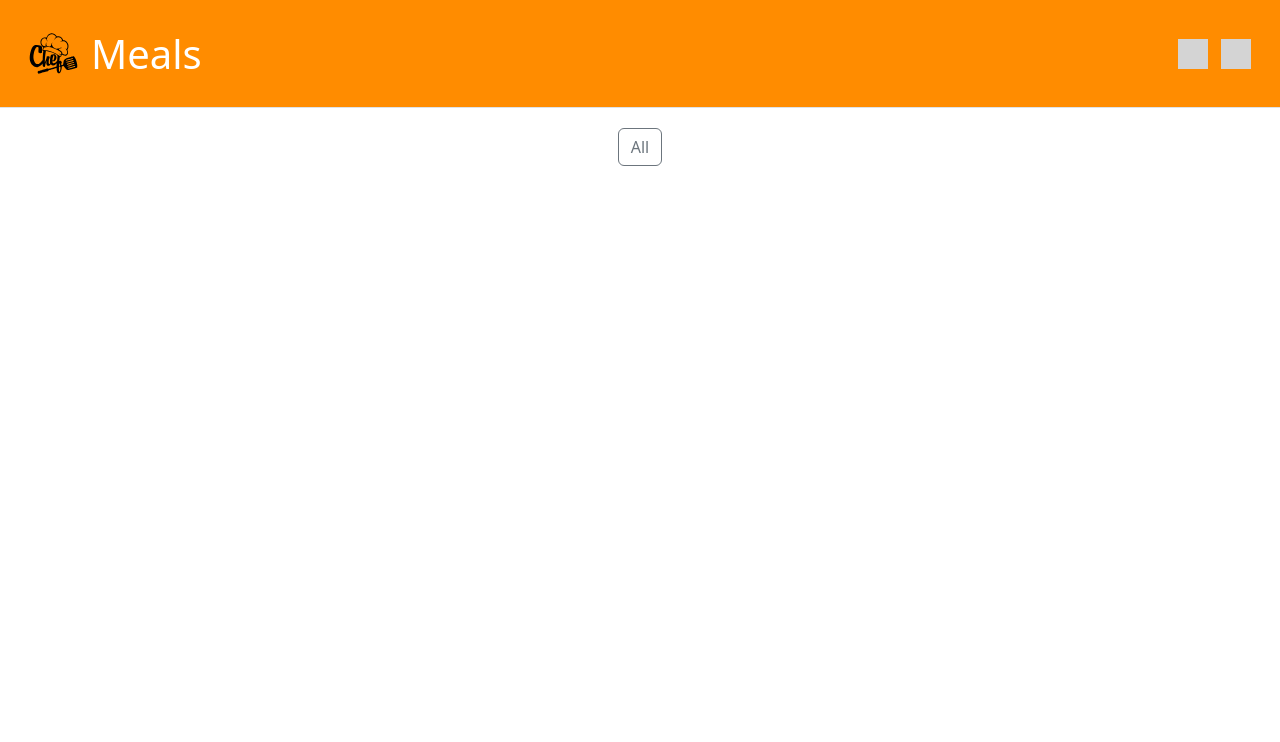
Test: Testa o componente SearchBar › Testa se tem o input, radio buttons e botão buscar
Click the button named "searchIcon".
click(1236, 54)  # box [1208,32,1264,76]
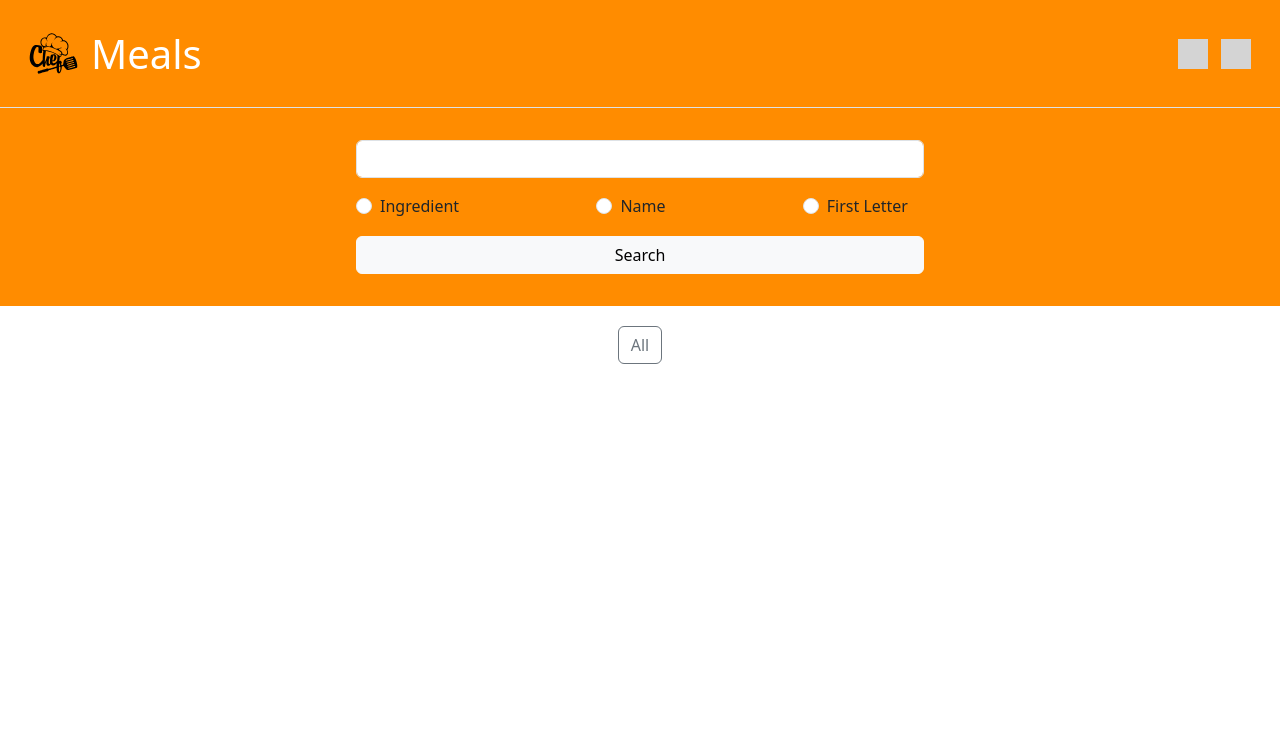
Expected: the field with test id "search-input" is shown, [356,140,924,178]
Expected: the radio button with test id "ingredient-search-radio" is shown, [356,198,372,214]
Expected: the radio button with test id "name-search-radio" is shown, [596,198,612,214]
